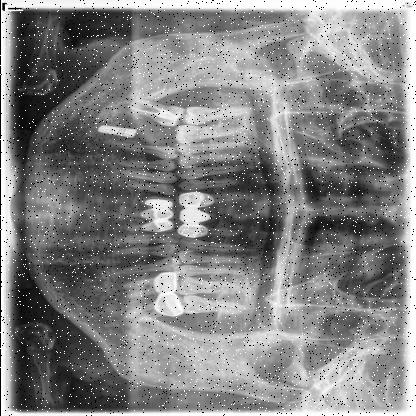ITI: (92, 123, 137, 140)
